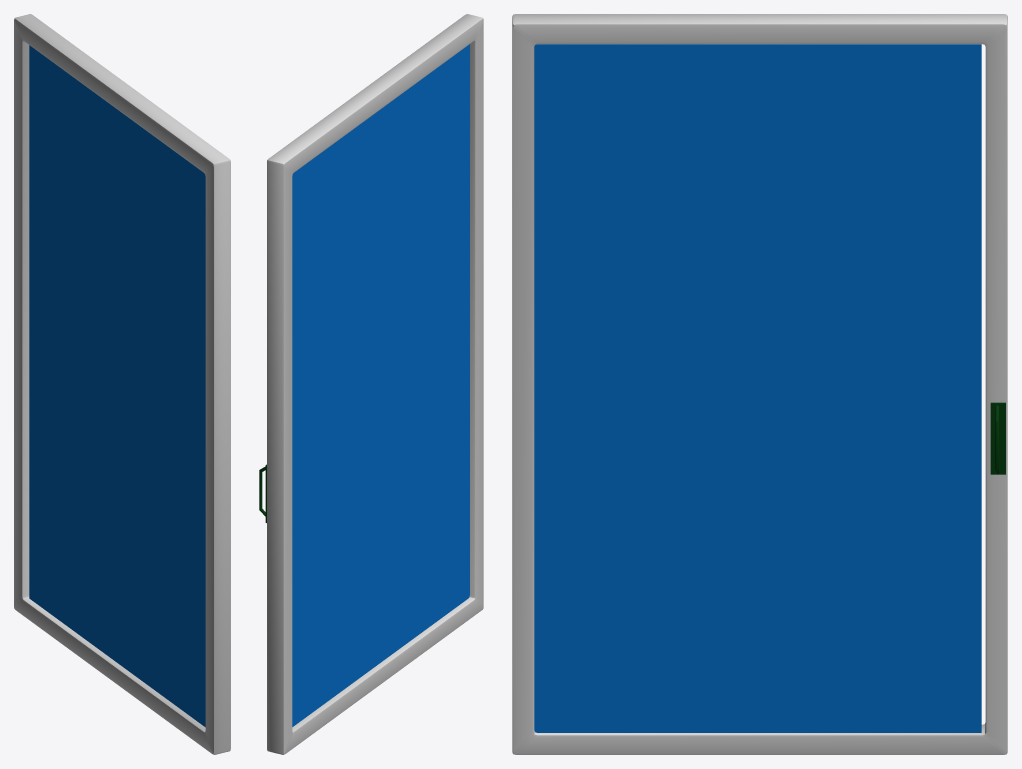
File: tight_door3.fbx
The picture shows the model from 3 angles, left to right: view 1: azimuth 30°, elevation 25°; view 2: azimuth 150°, elevation 25°; view 3: azimuth 270°, elevation 25°; orthographic projection. The views are drawn at different scales.
Parts seen in each view (by area): view 1: Box028; view 2: Box028; view 3: Box028.
Boxes of the visible parts, x1=… form: Box028: x1=14, y1=14, x2=230, y2=754; Box028: x1=259, y1=14, x2=483, y2=754; Box028: x1=512, y1=14, x2=1007, y2=754.
Size of the model in its own units: 1.54 by 30.1 by 18.47.
